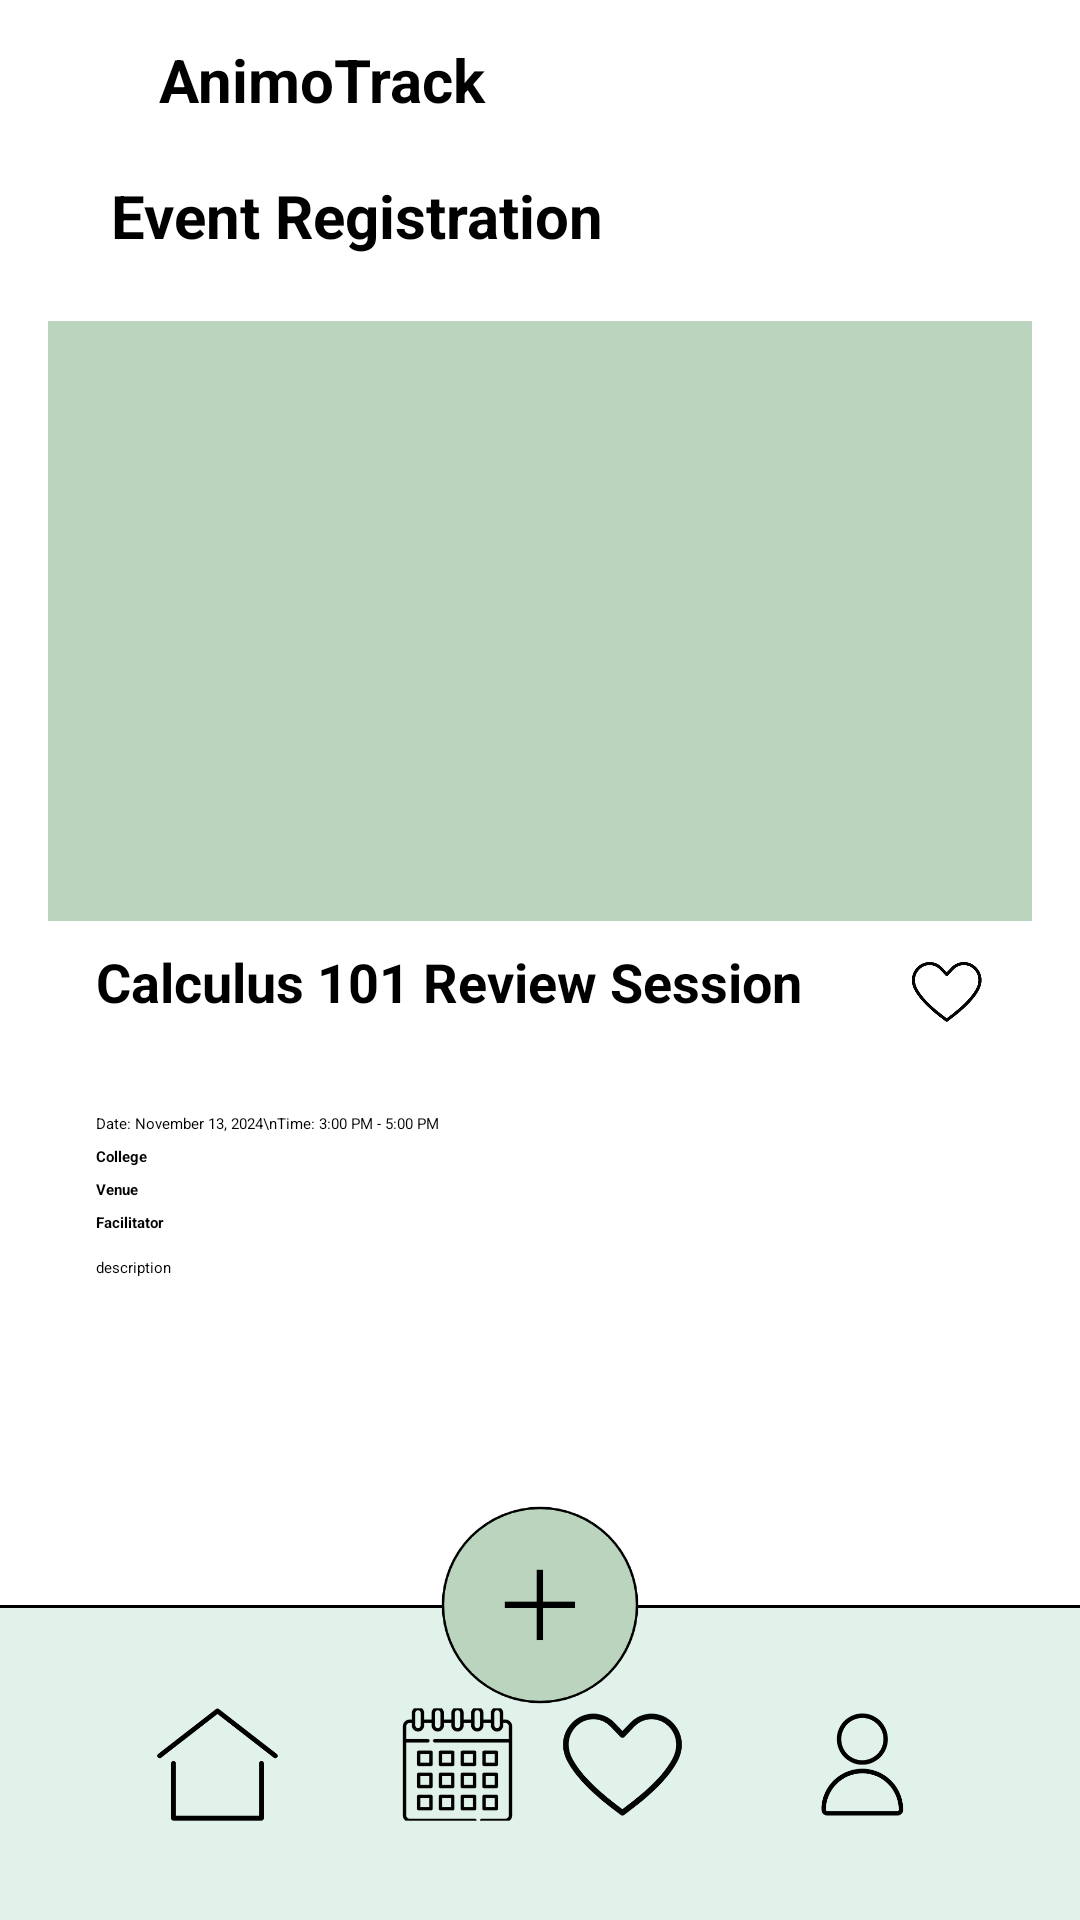

Locate icon controls on the screen. Image size 1080×1920, boxes as (x1, y1, x2, y2).
Events Button: (402, 1708, 513, 1821)
Home Button: (157, 1708, 278, 1821)
Profile Buton: (821, 1713, 903, 1816)
unshaded bookmark: (912, 962, 982, 1022)
